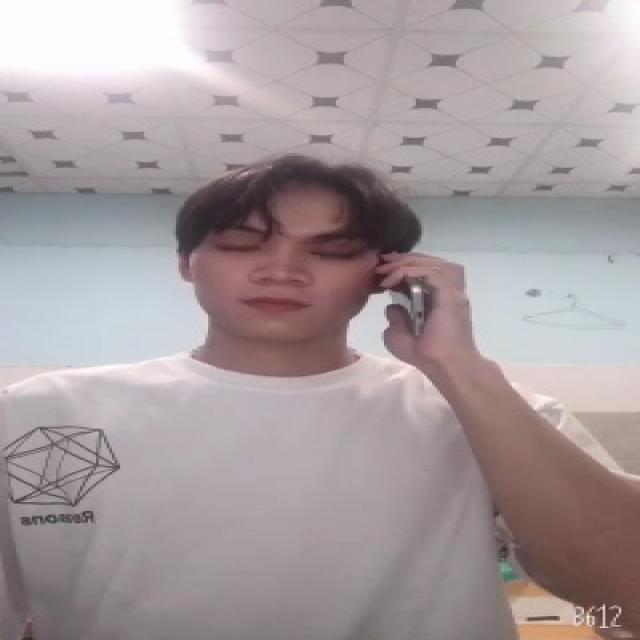Phone: (377, 244, 432, 340)
